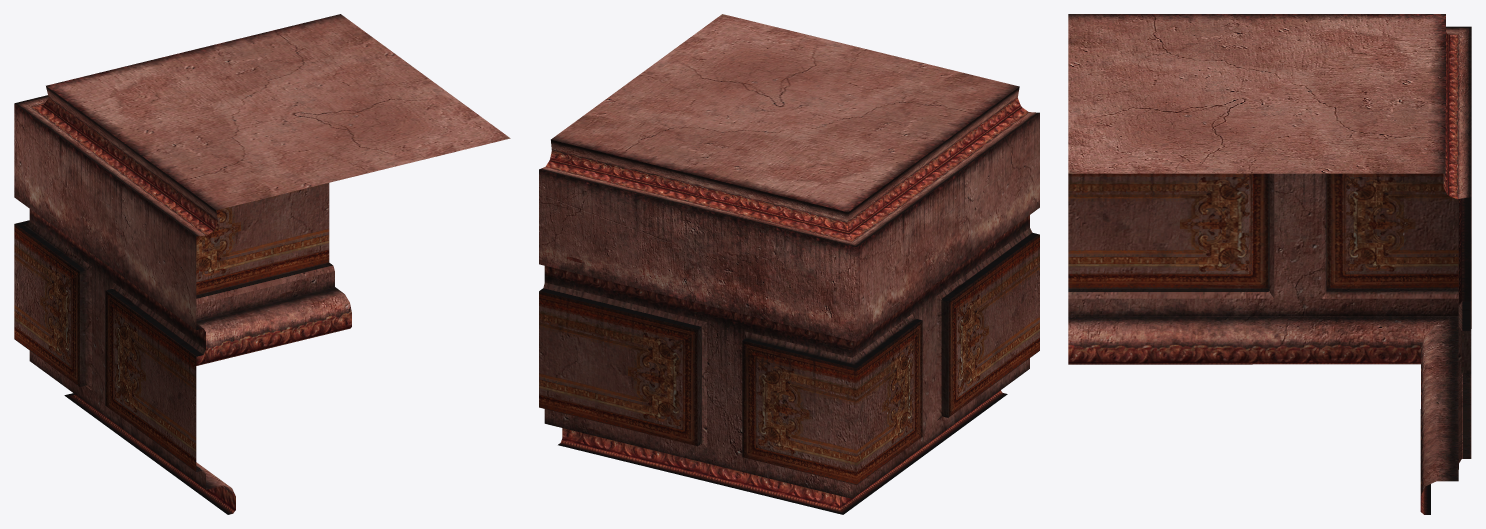
The model's file is corner_concave02_short.dae.
The picture shows the model from 3 angles, left to right: view 1: azimuth 30°, elevation 25°; view 2: azimuth 150°, elevation 25°; view 3: azimuth 270°, elevation 25°; orthographic projection. The views are drawn at different scales.
Visible parts, largest first — view 1: corner_concave_short; view 2: corner_concave_short; view 3: corner_concave_short.
Part boxes in pixels (box(x1,y1,x2,y2)): corner_concave_short: box(14, 14, 510, 514); corner_concave_short: box(539, 14, 1039, 514); corner_concave_short: box(1068, 14, 1471, 514).
Bounding box in the file's own units: 2 × 1.87 × 2.
Materials: 1 (1 with a texture image).
